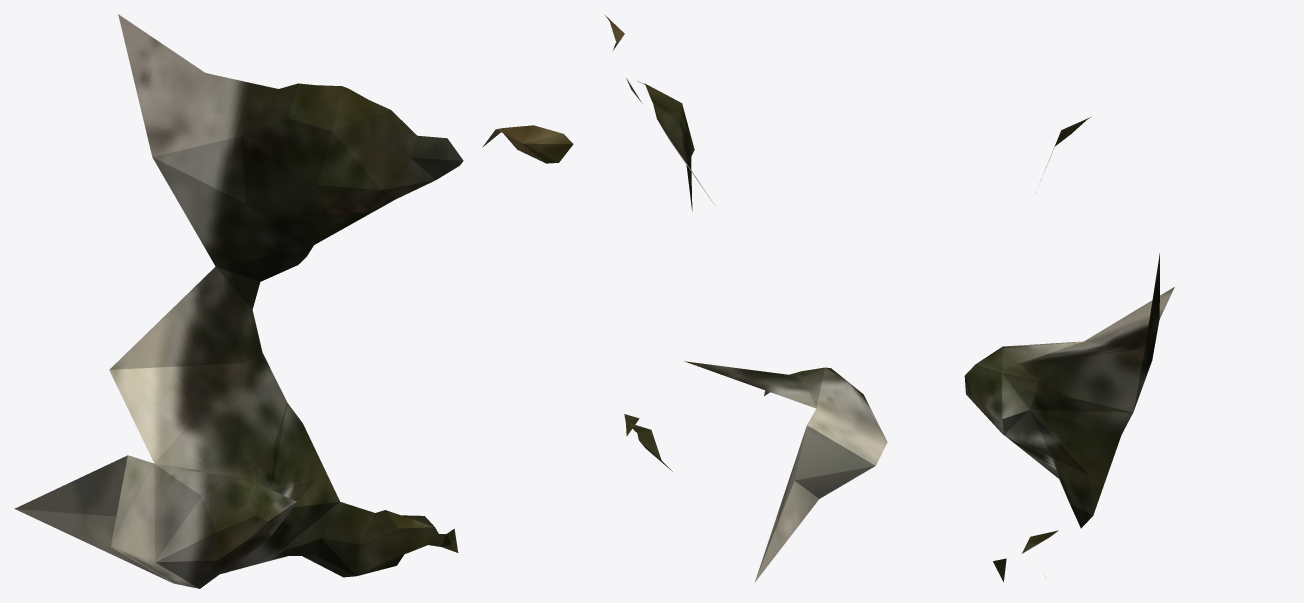
3 renders of one model, left to right at view 1: azimuth 30°, elevation 25°; view 2: azimuth 150°, elevation 25°; view 3: azimuth 270°, elevation 25°, orthographic. The views are drawn at different scales.
Size of the model in its own units: 1.11 by 1.45 by 0.9581.
Materials: 1 (1 with a texture image).
